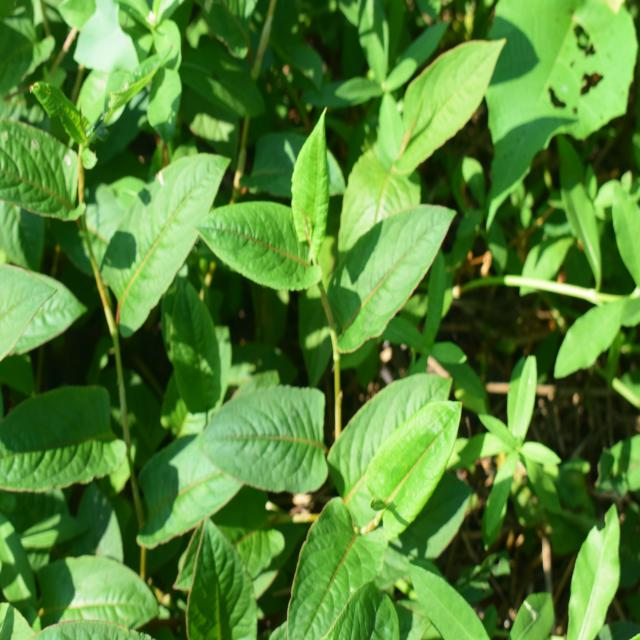Chinese_knotweed: (195, 155, 447, 613), (0, 110, 212, 502)
